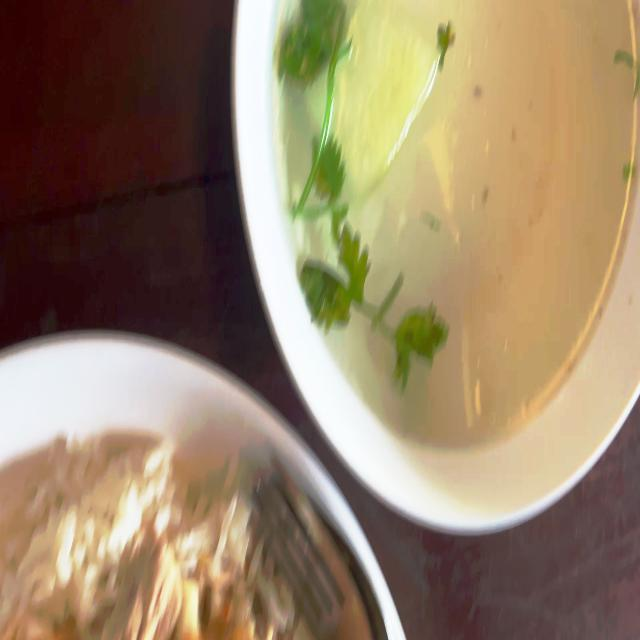boiled_chicken: (63, 531, 278, 640)
chicken_rice: (0, 429, 304, 640)
